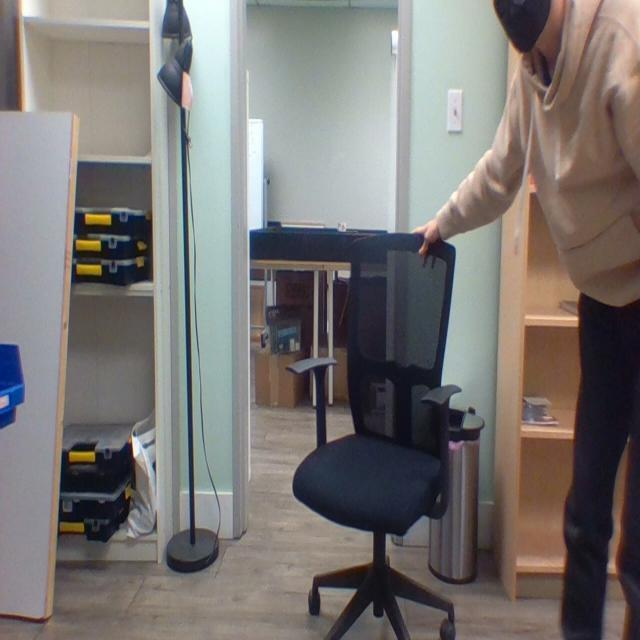chair: (292, 240, 466, 636)
